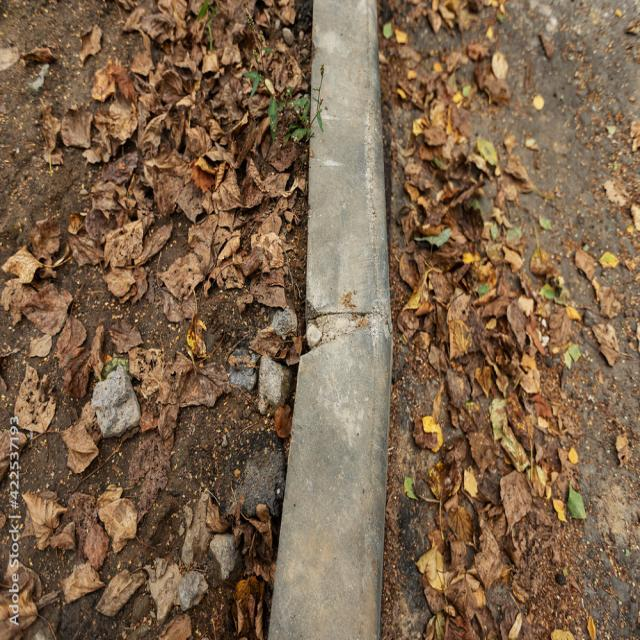Pothole: (214, 98, 556, 640)
